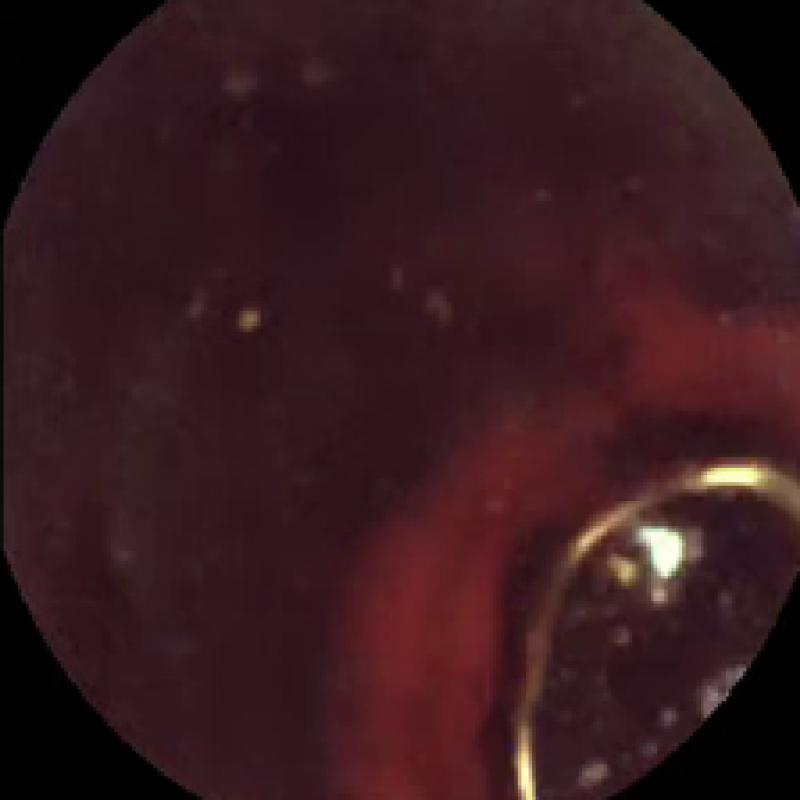bleeding: (307, 260, 800, 800)
